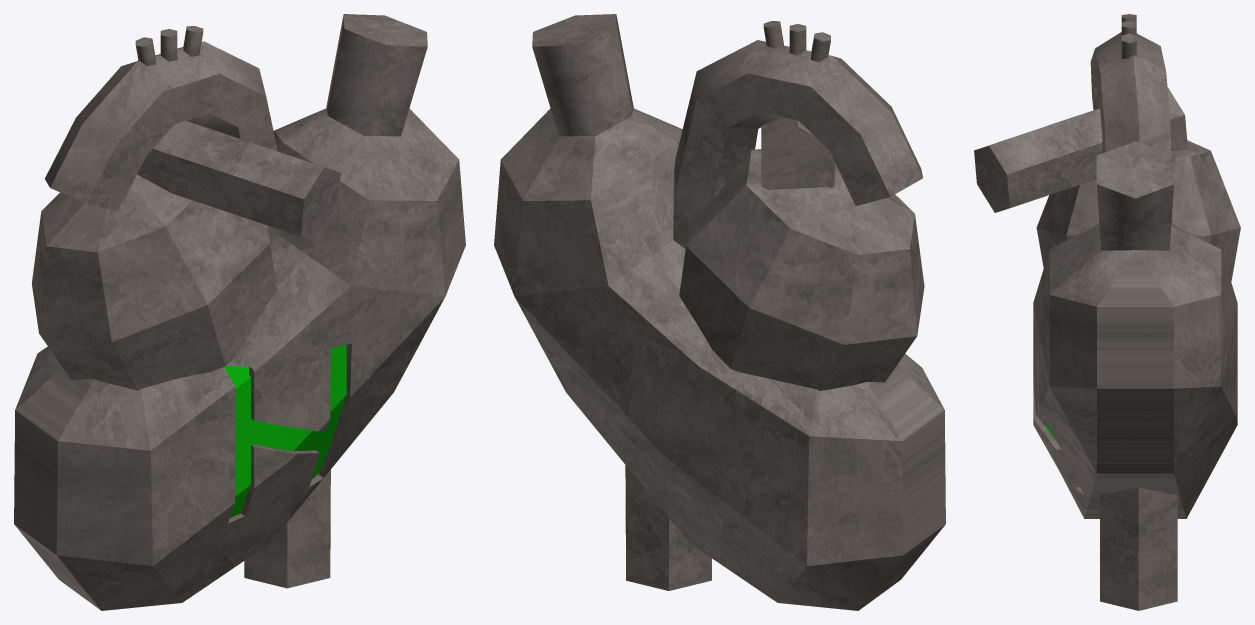
The model's file is Health_MaxHealth.fbx.
3 views of the same model, side by side, from view 1: azimuth 30°, elevation 25°; view 2: azimuth 150°, elevation 25°; view 3: azimuth 270°, elevation 25° (orthographic). The views are drawn at different scales.
Visible parts, largest first — view 1: Health_H Rune; view 2: Health_H Rune; view 3: Health_H Rune.
Part boxes in pixels (left/top/right/bottom): Health_H Rune: left=14, top=14, right=465, bottom=610; Health_H Rune: left=494, top=14, right=945, bottom=610; Health_H Rune: left=974, top=14, right=1240, bottom=610.
Size of the model in its own units: 53.96 by 71.63 by 33.77.
Materials: 1 (1 with a texture image).
